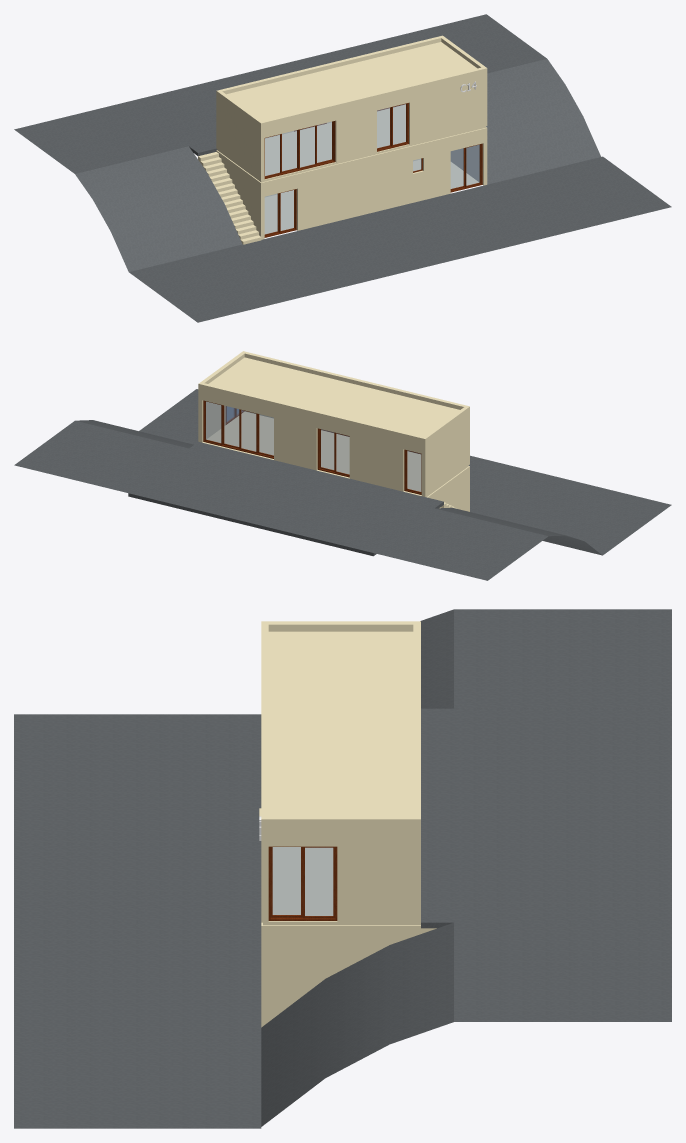
3 views of the same model, one above another, from view 1: azimuth 30°, elevation 25°; view 2: azimuth 150°, elevation 25°; view 3: azimuth 270°, elevation 25° (orthographic). The views are drawn at different scales.
Visible parts, largest first — view 1: 19827, 19807 (×2), 17029, 18941, 18691, 19815, 18744, Component#1 (×3), 19753, Component#2; view 2: 18744, 17029, 19827, 18691, 19815, 19753, Component#2, 19807 (×2), Component#1, 18941, 17334; view 3: 19827, 18744, 18691, 19807 (×2), 19753, 19815, 17029, 18941, Component#1.
Part boxes in pixels (x1,y1,x2,y2): 19827: (129, 156, 671, 322); 19807 (×2): (75, 59, 600, 271); 17029: (216, 35, 487, 180); 18941: (216, 126, 487, 239); 18691: (226, 42, 477, 120); 19815: (14, 101, 188, 173); 18744: (128, 42, 382, 156); Component#1 (×3): (264, 103, 482, 237); 19753: (373, 14, 546, 73); Component#2: (264, 121, 335, 178); 18744: (128, 441, 443, 556); 17029: (198, 351, 469, 496); 19827: (139, 389, 671, 555); 18691: (208, 357, 459, 436); 19815: (374, 508, 548, 580); 19753: (14, 420, 188, 492); Component#2: (203, 400, 273, 458); 19807 (×2): (76, 420, 602, 555); Component#1: (317, 428, 349, 477); 18941: (403, 465, 469, 511); 17334: (404, 449, 421, 494); 19827: (14, 714, 261, 1128); 18744: (421, 708, 671, 928); 18691: (268, 631, 413, 815); 19807 (×2): (261, 609, 453, 1126); 19753: (454, 922, 671, 1021); 19815: (454, 609, 671, 708); 17029: (261, 621, 420, 922); 18941: (261, 921, 436, 1027); Component#1: (268, 846, 337, 920).
Bounding box in the file's own units: 25.77 × 6.23 × 17.3.
Materials: 299 (116 with a texture image).
